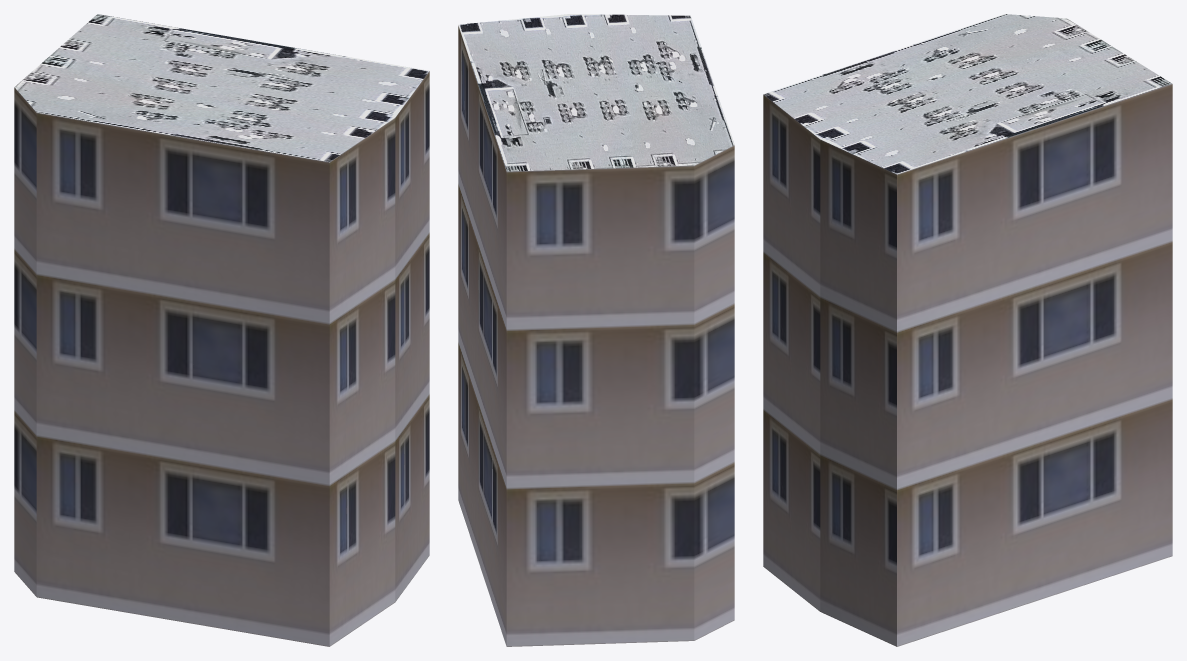
File: ResTex__2698.fbx
The picture shows the model from 3 angles, left to right: view 1: azimuth 30°, elevation 25°; view 2: azimuth 150°, elevation 25°; view 3: azimuth 270°, elevation 25°; orthographic projection. The views are drawn at different scales.
Parts seen in each view (by area): view 1: CityEngineMaterial_21_m, CityEngineMaterial_4_m; view 2: CityEngineMaterial_21_m, CityEngineMaterial_4_m; view 3: CityEngineMaterial_21_m, CityEngineMaterial_4_m.
Boxes of the visible parts, left/top/right/bottom form: CityEngineMaterial_21_m: left=14, top=71, right=429, bottom=646; CityEngineMaterial_4_m: left=14, top=14, right=428, bottom=162; CityEngineMaterial_21_m: left=458, top=26, right=734, bottom=646; CityEngineMaterial_4_m: left=458, top=14, right=734, bottom=171; CityEngineMaterial_21_m: left=763, top=84, right=1172, bottom=646; CityEngineMaterial_4_m: left=763, top=14, right=1171, bottom=174.
Bounding box in the file's own units: 6.56 × 9 × 7.06.
Materials: 2 (2 with a texture image).
